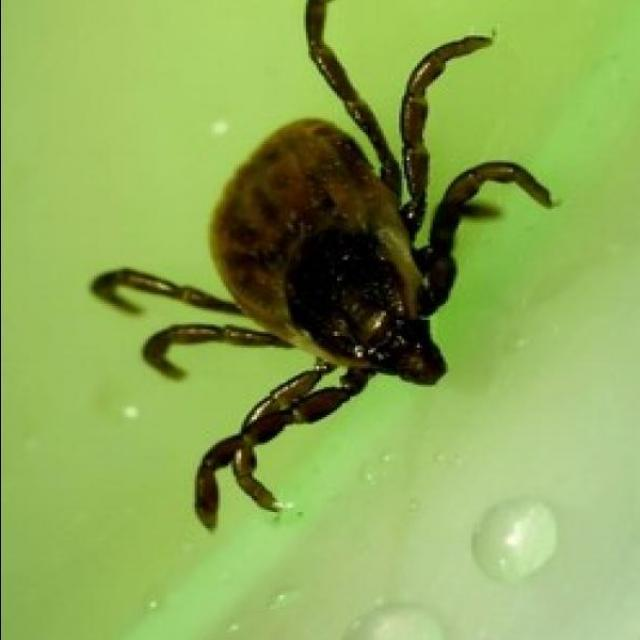Rhipicephalus Sanguineus-F: (88, 0, 553, 531)
